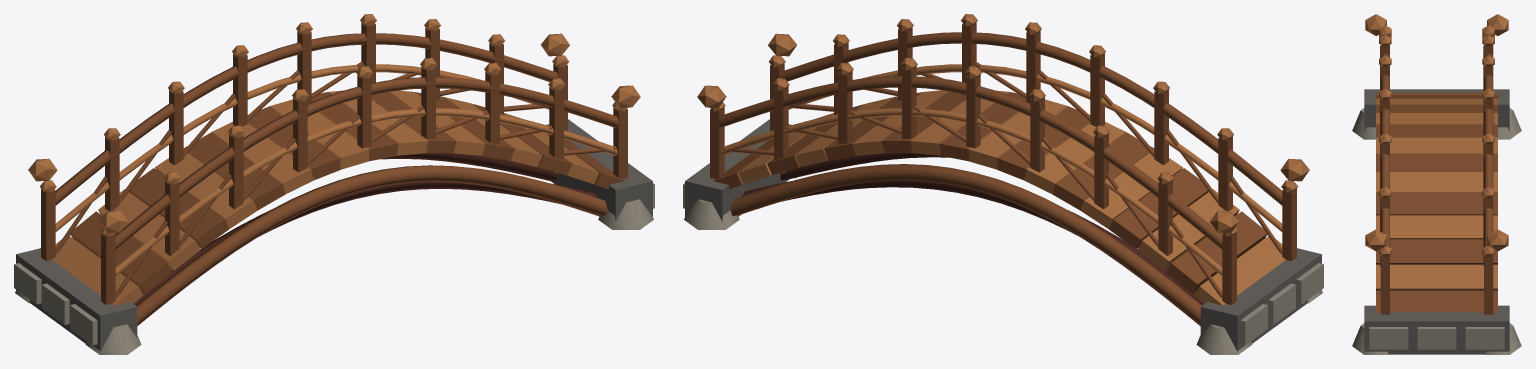
Rendered from japanese-bridge.glb.
The picture shows the model from 3 angles, left to right: view 1: azimuth 30°, elevation 25°; view 2: azimuth 150°, elevation 25°; view 3: azimuth 270°, elevation 25°; orthographic projection. The views are drawn at different scales.
Visible parts, largest first — view 1: japanese-bridge-jp-bridge-wood-merged, japanese-bridge-jp-bridge-highlight-merged, japanese-bridge-jp-dark-stone-merged, japanese-bridge-jp-stone-merged, japanese-bridge-jp-dark-timber-merged; view 2: japanese-bridge-jp-bridge-wood-merged, japanese-bridge-jp-bridge-highlight-merged, japanese-bridge-jp-dark-stone-merged, japanese-bridge-jp-stone-merged, japanese-bridge-jp-dark-timber-merged; view 3: japanese-bridge-jp-bridge-wood-merged, japanese-bridge-jp-bridge-highlight-merged, japanese-bridge-jp-dark-stone-merged, japanese-bridge-jp-stone-merged.
Boxes of the visible parts, x1,y1,x2,y2 form: japanese-bridge-jp-bridge-wood-merged: [41, 23, 627, 325]; japanese-bridge-jp-bridge-highlight-merged: [28, 14, 640, 305]; japanese-bridge-jp-dark-stone-merged: [16, 119, 652, 351]; japanese-bridge-jp-stone-merged: [14, 183, 654, 354]; japanese-bridge-jp-dark-timber-merged: [133, 153, 596, 305]; japanese-bridge-jp-bridge-wood-merged: [710, 23, 1296, 325]; japanese-bridge-jp-bridge-highlight-merged: [697, 14, 1309, 305]; japanese-bridge-jp-dark-stone-merged: [685, 119, 1321, 351]; japanese-bridge-jp-stone-merged: [683, 177, 1323, 354]; japanese-bridge-jp-dark-timber-merged: [741, 153, 1204, 305]; japanese-bridge-jp-bridge-wood-merged: [1376, 35, 1497, 314]; japanese-bridge-jp-bridge-highlight-merged: [1365, 14, 1508, 290]; japanese-bridge-jp-dark-stone-merged: [1364, 89, 1509, 354]; japanese-bridge-jp-stone-merged: [1352, 108, 1521, 354].
Bounding box in the file's own units: 7.9 × 2.9 × 2.4.
